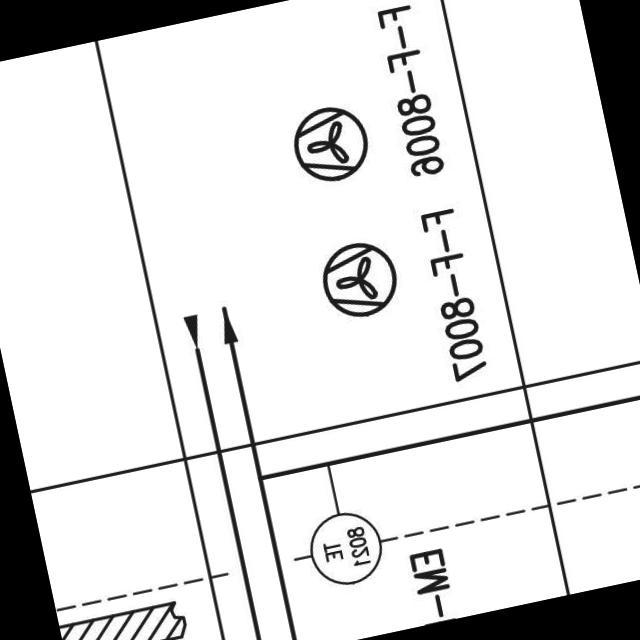F: (310, 234, 401, 326), (285, 96, 374, 190)
